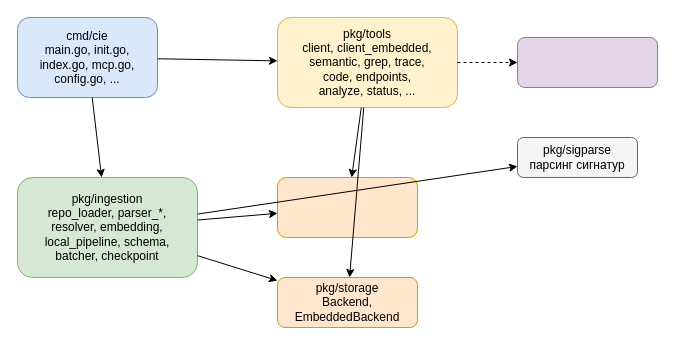
Image size: 675x345. Some labels were removed from this diagram. The shapes that lost their labels are listed below. From the top down, each one's centre as x and y in pixels, then its label:
At (587,62): "pkg/llm provider (Ollama, OpenAI, Nomic)".
At (347,207): "pkg/cozodb CozoDB wrapper Datalog, HNSW".
